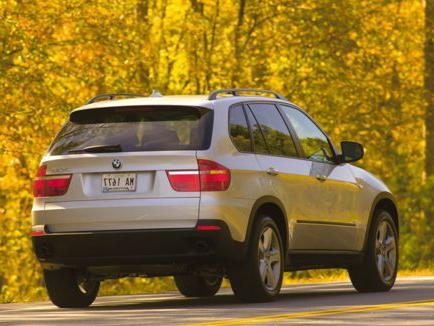Car: (29, 72, 413, 319)
